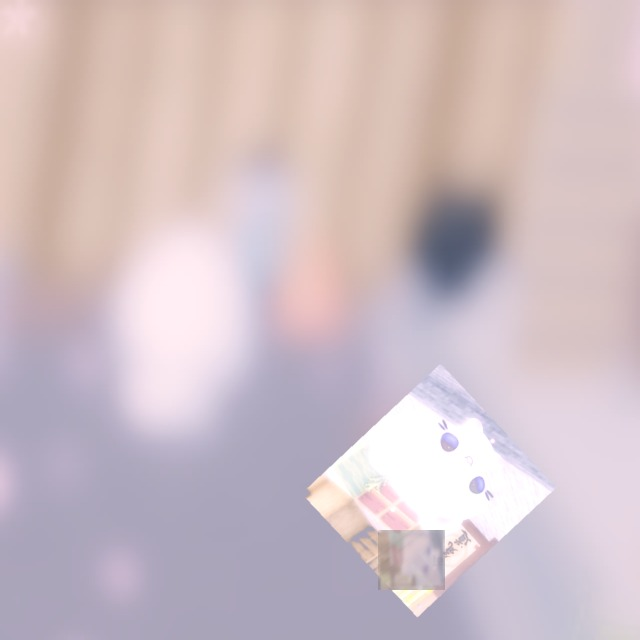urso_branco: (301, 363, 557, 618), (378, 530, 445, 590)
